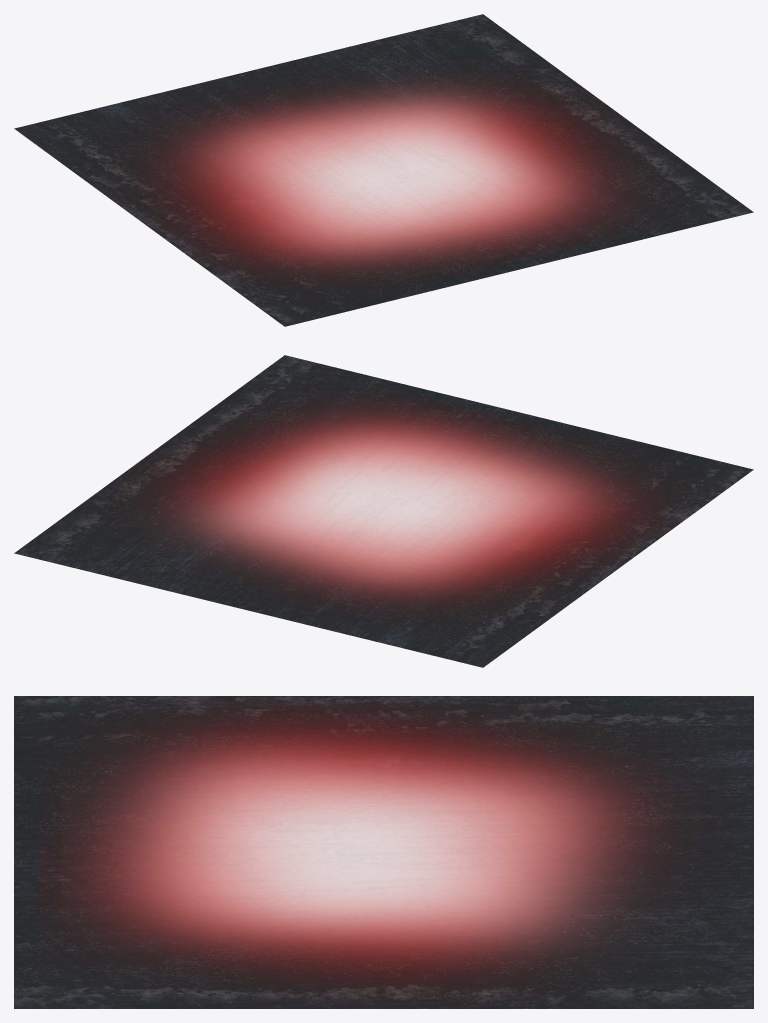
The model's file is Street_caved_in.glb.
The picture shows the model from 3 angles, top to bottom: view 1: azimuth 30°, elevation 25°; view 2: azimuth 150°, elevation 25°; view 3: azimuth 270°, elevation 25°; orthographic projection. The views are drawn at different scales.
Visible parts, largest first — view 1: Street.001; view 2: Street.001; view 3: Street.001.
Part boxes in pixels (<box>): Street.001: <box>14,14,753,326</box>; Street.001: <box>14,355,753,667</box>; Street.001: <box>14,696,753,1008</box>.
Bounding box in the file's own units: 2 × 0 × 2.
Materials: 1 (1 with a texture image).
